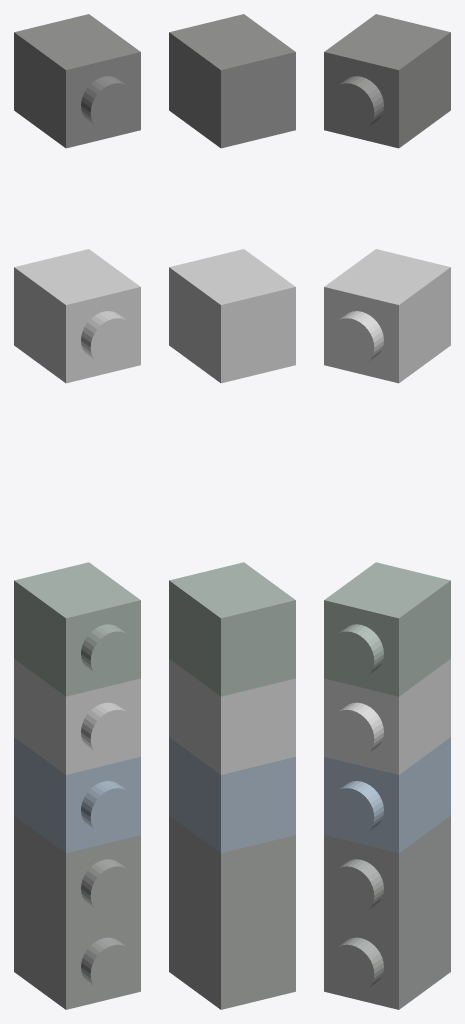
File: current.glb
3 renders of one model, left to right at view 1: azimuth 30°, elevation 25°; view 2: azimuth 210°, elevation 25°; view 3: azimuth 330°, elevation 25°, orthographic.
Visible parts, largest first — view 1: world; view 2: world; view 3: world.
Part boxes in pixels (box(x1,y1,x2,y2)): world: box(14, 14, 140, 1009); world: box(169, 14, 295, 1009); world: box(324, 14, 450, 1009).
Bounding box in the file's own units: 8 × 96 × 11.4.
